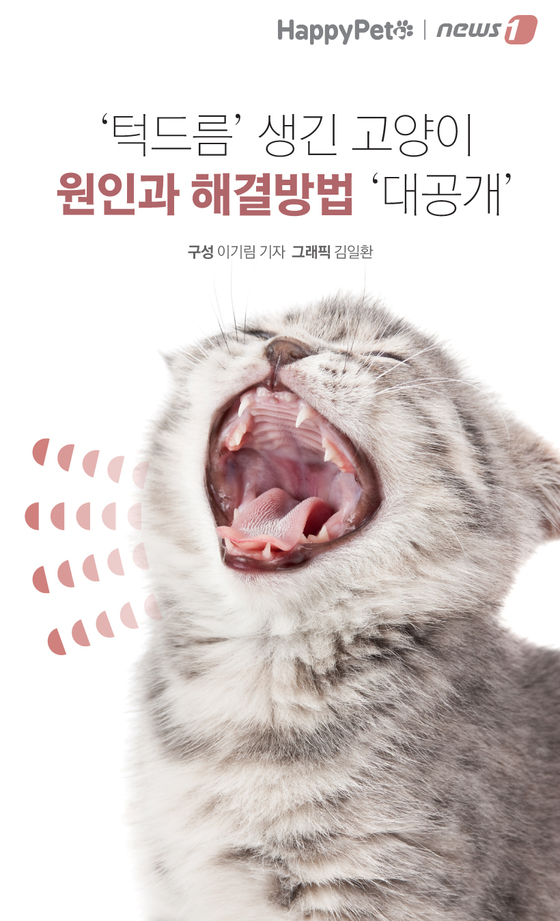cat: (100, 283, 559, 920)
cat-face: (127, 265, 559, 647)
